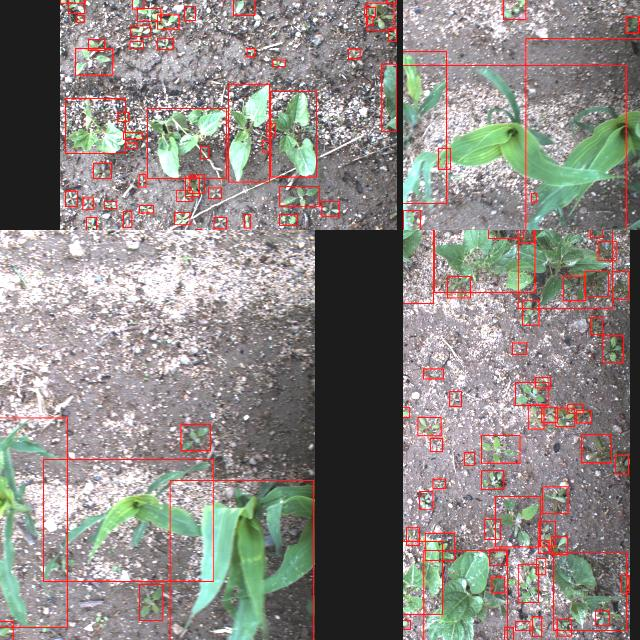crop: (403, 65, 625, 230), (169, 480, 313, 640), (525, 37, 640, 230), (42, 459, 212, 581), (0, 417, 66, 627), (423, 550, 507, 640), (517, 230, 612, 307), (403, 51, 446, 203), (433, 230, 534, 291), (554, 552, 626, 630), (147, 108, 226, 178), (270, 90, 316, 176), (228, 83, 268, 181), (64, 98, 124, 152), (403, 540, 442, 613), (403, 230, 433, 303), (382, 64, 396, 130)
weed: (494, 496, 540, 546), (480, 435, 520, 463), (75, 48, 112, 74), (138, 584, 162, 620), (424, 532, 454, 560), (581, 434, 611, 462), (180, 424, 210, 451), (279, 185, 319, 205), (366, 2, 394, 30), (518, 564, 538, 602), (514, 382, 548, 404), (542, 486, 568, 514), (584, 270, 608, 296), (602, 334, 624, 362), (563, 276, 585, 300), (612, 271, 630, 299), (538, 520, 556, 546), (446, 276, 469, 296), (418, 416, 440, 436), (481, 469, 503, 488), (502, 0, 525, 18), (528, 404, 544, 428), (522, 300, 538, 324), (556, 406, 574, 426), (598, 240, 616, 260), (403, 209, 419, 230), (484, 519, 500, 539), (136, 7, 160, 20), (232, 0, 254, 14), (156, 14, 178, 28), (92, 162, 110, 178), (188, 174, 204, 192), (551, 536, 567, 554), (185, 176, 199, 196), (489, 549, 506, 565), (322, 200, 338, 216), (541, 406, 557, 422), (418, 491, 432, 509), (557, 618, 571, 636), (487, 230, 523, 237), (130, 24, 150, 36), (438, 148, 450, 168), (616, 454, 628, 474), (595, 610, 609, 626), (0, 620, 11, 640), (406, 527, 418, 545), (590, 316, 602, 334), (67, 0, 83, 13), (531, 616, 541, 636), (422, 368, 442, 378), (279, 213, 297, 224), (156, 37, 172, 49), (64, 190, 76, 206), (626, 16, 638, 32), (492, 576, 504, 592), (449, 390, 461, 406), (517, 230, 533, 242), (88, 39, 104, 50), (174, 212, 188, 224), (207, 186, 221, 198), (576, 410, 590, 422), (176, 190, 192, 200), (122, 211, 132, 227), (536, 558, 546, 574), (514, 620, 530, 630), (534, 377, 550, 387), (183, 6, 194, 20), (512, 342, 526, 353), (214, 216, 226, 228), (621, 574, 629, 592), (430, 438, 442, 450), (81, 197, 92, 209), (85, 217, 95, 230), (568, 403, 582, 412), (116, 111, 128, 121), (348, 48, 360, 58), (122, 132, 142, 138), (364, 6, 376, 16), (432, 478, 444, 488), (538, 540, 548, 552), (464, 452, 474, 464), (504, 627, 513, 640), (138, 204, 152, 212), (266, 122, 274, 136), (272, 59, 286, 66), (388, 28, 396, 40), (200, 146, 208, 158), (104, 200, 116, 208), (138, 174, 146, 186), (131, 0, 143, 8), (261, 139, 269, 151), (244, 213, 250, 227), (130, 41, 142, 48), (590, 230, 602, 237), (125, 142, 136, 148), (246, 48, 254, 56), (403, 619, 410, 628), (403, 406, 409, 416), (75, 15, 83, 22), (367, 16, 373, 24), (532, 192, 536, 202), (386, 0, 396, 3), (195, 228, 201, 230)
